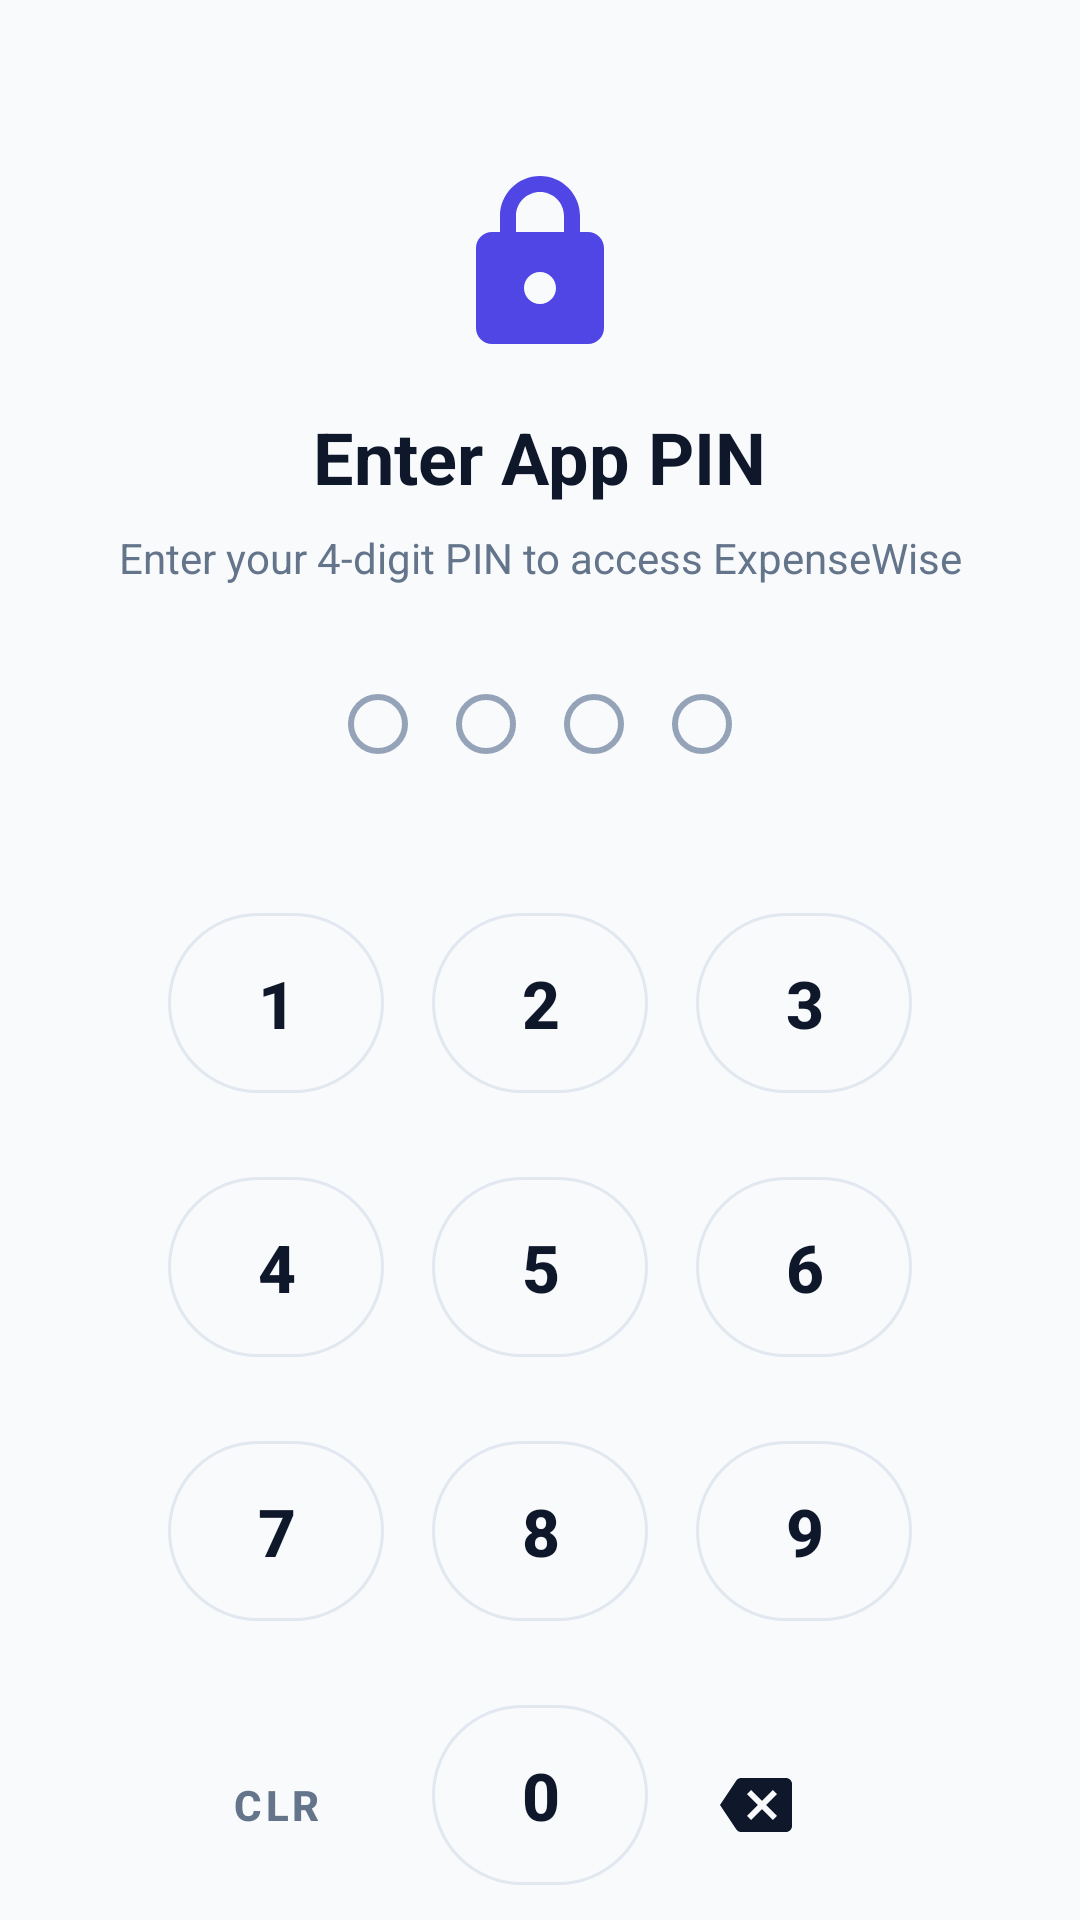

Where to tap for icons on this 1080 × 1920 app screen, as (x=x, y=y):
backspace: (x=756, y=1805)
